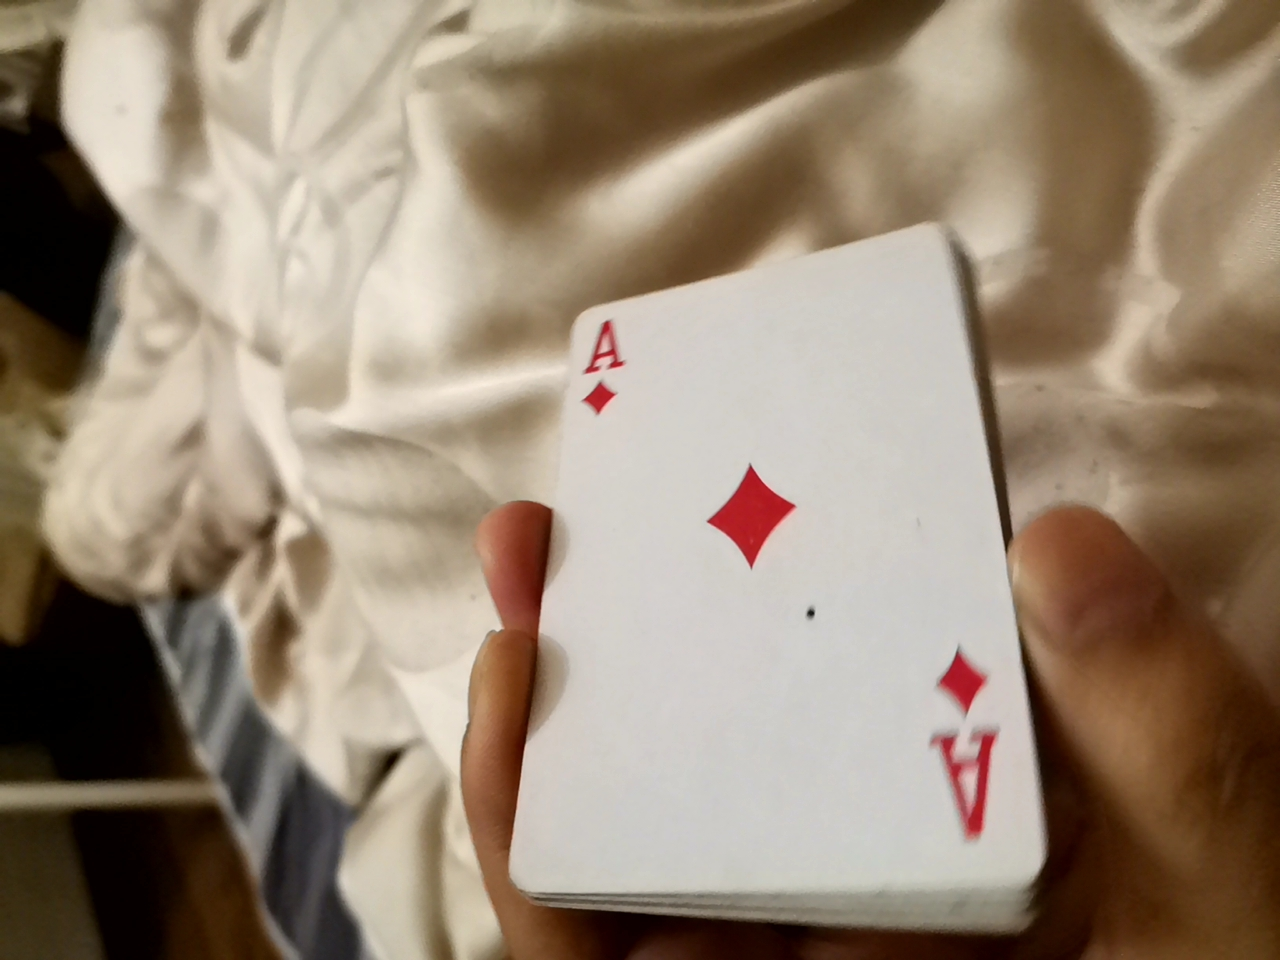fk a: (489, 259, 1095, 862)
